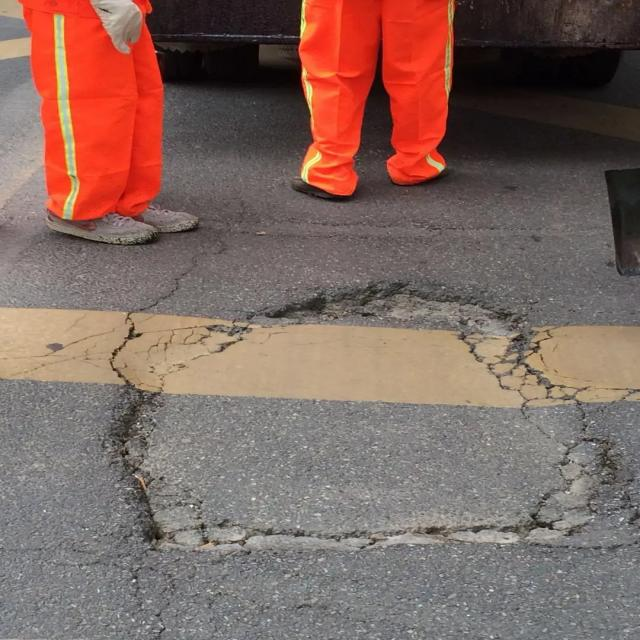Pothole: (104, 282, 619, 558)
